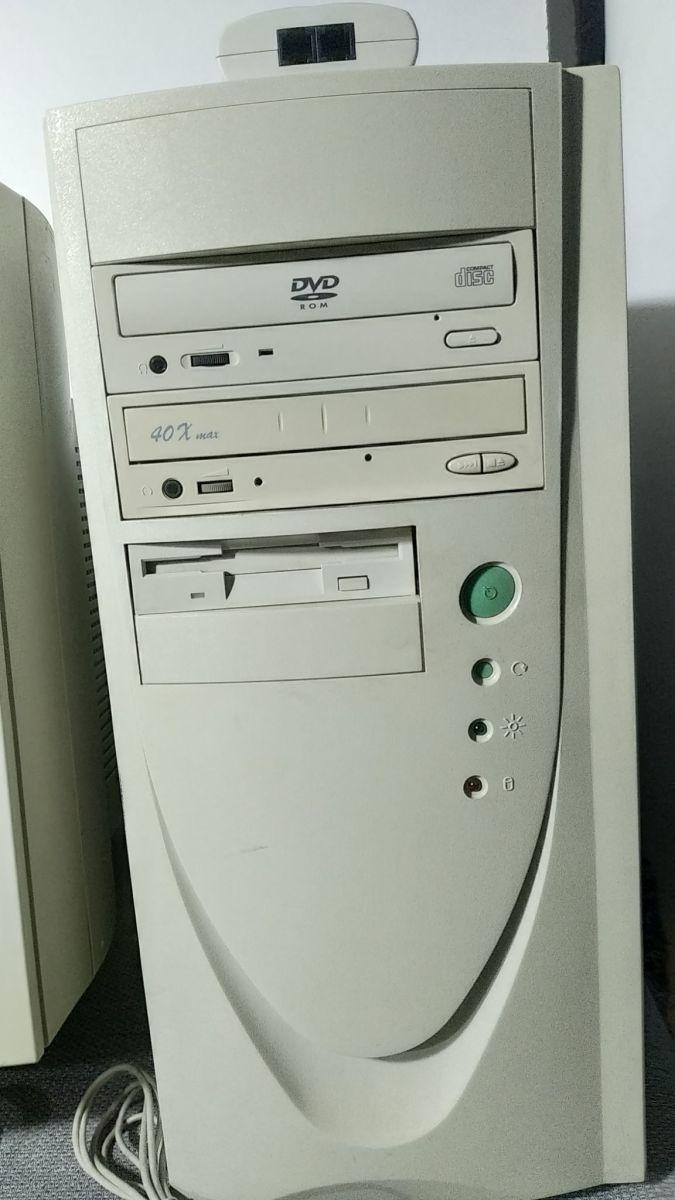computer_tower: (52, 62, 642, 1200)
